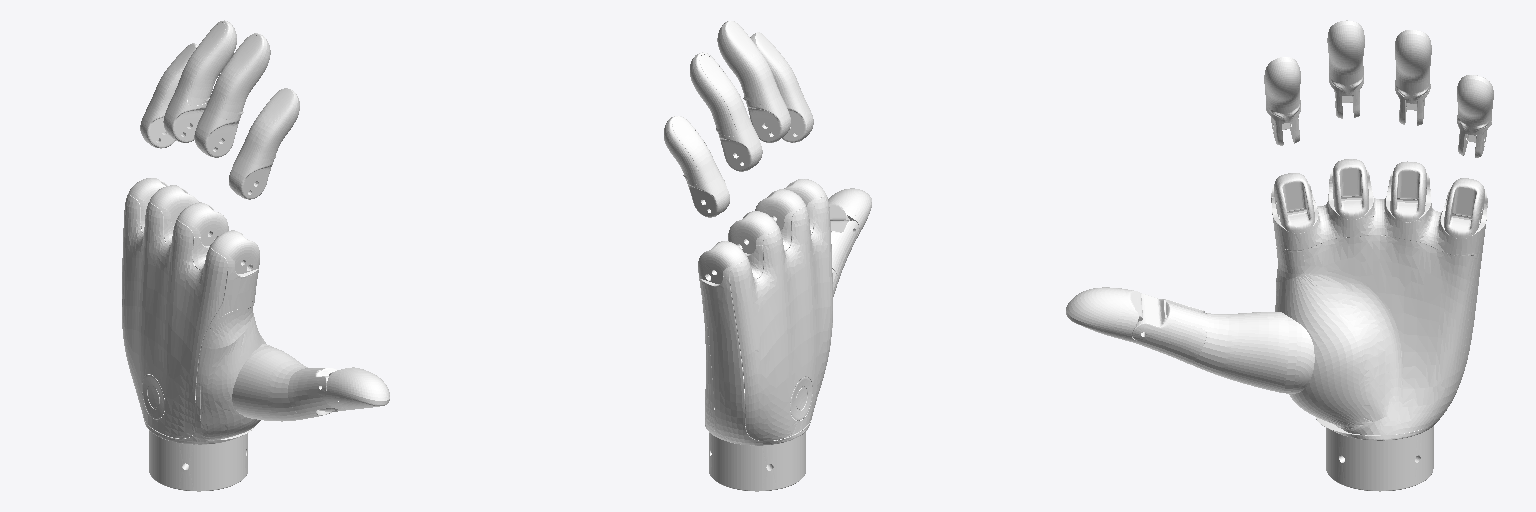
URDF robot description (brainco_revo2_lefthand_urdf):
<?xml version='1.0' encoding='utf-8'?>
<robot name="brainco_revo2_lefthand_urdf">
  <link name="left_base_link">
    <inertial>
      <origin xyz="-0.00526250771717109 0.00339255905687133 0.0521379173026012" rpy="0 0 0" />
      <mass value="0.238" />
      <inertia ixx="2.10902217235295E-05" ixy="-3.91382468722039E-08" ixz="9.20954665152033E-08" iyy="1.44592446991944E-05" iyz="1.10000625250951E-06" izz="7.99782051792634E-06" />
    </inertial>
    <visual>
      <origin xyz="0 0 0" rpy="0 0 0" />
      <geometry>
        <mesh filename="package://revo2_description/meshes/revo2_left_hand/left_base_link.STL" />
      </geometry>
      <material name="">
        <color rgba="1 1 1 1" />
      </material>
    </visual>
 <visual>
      <origin xyz="0 0 0" rpy="0 0 0" />
      <geometry>
        <mesh filename="package://revo2_description/meshes/revo2_left_hand/left_base_visual_link.STL" />
      </geometry>
      <material name="">
        <color rgba="1 1 1 1" />
      </material>
    </visual>
    <collision>
      <origin xyz="0 0 0" rpy="0 0 0" />
      <geometry>
        <mesh filename="package://revo2_description/meshes/revo2_left_hand/left_base_link.STL" />
      </geometry>
    </collision>
  </link>
  <link name="left_thumb_metacarpal_link">
    <inertial>
      <origin xyz="1.52303696287076E-05 -0.00707240283482268 -0.00420839832903629" rpy="0 0 0" />
      <mass value="0.01" />
      <inertia ixx="1.59238866130872E-07" ixy="4.69114607598503E-09" ixz="4.93233725002151E-10" iyy="1.60911967461756E-07" iyz="1.48144948560702E-08" izz="5.13544258620214E-08" />
    </inertial>
    <visual>
      <origin xyz="0 0 0" rpy="0 0 0" />
      <geometry>
        <mesh filename="package://revo2_description/meshes/revo2_left_hand/left_thumb_metacarpal_link.STL" />
      </geometry>
      <material name="">
        <color rgba="1 1 1 1" />
      </material>
    </visual>
    <collision>
      <origin xyz="0 0 0" rpy="0 0 0" />
      <geometry>
        <mesh filename="package://revo2_description/meshes/revo2_left_hand/left_thumb_metacarpal_link.STL" />
      </geometry>
    </collision>
  </link>
  <joint name="left_thumb_metacarpal_joint" type="revolute">
    <!-- 零位重定义：新 q=0 对应旧坐标 +3deg（Stark2.0 URDF 2026-08-14） -->
    <origin xyz="0.0045 -0.019 0.027825" rpy="0 0 0.22023" />
    <parent link="left_base_link" />
    <child link="left_thumb_metacarpal_link" />
    <axis xyz="0 0 1" />
    <limit lower="0" upper="1.55334" effort="0.5" velocity="2.6175" />
  </joint>
  <link name="left_thumb_proximal_link">
    <inertial>
      <origin xyz="-3.69149416382109E-07 -0.0277015790929176 -0.00202668257181579" rpy="0 0 0" />
      <mass value="0.05" />
      <inertia ixx="2.40450829263392E-06" ixy="1.70278763843824E-10" ixz="1.21632944893438E-11" iyy="5.12299191364743E-07" iyz="2.89023502749285E-08" izz="2.56255682995404E-06" />
    </inertial>
 <visual>
      <origin xyz="0 0 0" rpy="0 0 0" />
      <geometry>
        <mesh filename="package://revo2_description/meshes/revo2_left_hand/left_thumb_proximal_visual_link.STL" />
      </geometry>
      <material name="">
        <color rgba="1 1 1 1" />
      </material>
    </visual>
    <collision>
      <origin xyz="0 0 0" rpy="0 0 0" />
      <geometry>
        <mesh filename="package://revo2_description/meshes/revo2_left_hand/left_thumb_proximal_link.STL" />
      </geometry>
    </collision>
  </link>
  <joint name="left_thumb_proximal_joint" type="revolute">
    <!-- 原点补偿：绕旋转轴 +9deg -->
    <origin xyz="0 -0.014227 0" rpy="-0.33153 0.23736 -0.16787" />
    <parent link="left_thumb_metacarpal_link" />
    <child link="left_thumb_proximal_link" />
    <axis xyz="-1 0 0" />
    <limit lower="0" upper="1.04720" effort="1.1" velocity="2.5303" />
  </joint>
  <link name="left_thumb_distal_link">
    <inertial>
      <origin xyz="1.65618684180163E-07 -0.0117550891981016 1.1366609064185E-05" rpy="0 0 0" />
      <mass value="0.01" />
      <inertia ixx="1.6780928553031E-07" ixy="1.91856562375217E-11" ixz="2.69475202672276E-12" iyy="1.15357239984326E-07" iyz="-1.25182560702847E-08" izz="2.1956615213811E-07" />
    </inertial>
    <visual>
      <origin xyz="0 0 0" rpy="0 0 0" />
      <geometry>
        <mesh filename="package://revo2_description/meshes/revo2_left_hand/left_thumb_distal_link.STL" />
      </geometry>
      <material name="">
        <color rgba="1 1 1 1" />
      </material>
    </visual>
    <collision>
      <origin xyz="0 0 0" rpy="0 0 0" />
      <geometry>
        <mesh filename="package://revo2_description/meshes/revo2_left_hand/left_thumb_distal_link.STL" />
      </geometry>
    </collision>
  </link>
  <joint name="left_thumb_distal_joint" type="revolute">
    <!-- 原点补偿：绕旋转轴 +6deg -->
    <origin xyz="0 -0.052 0" rpy="0.10472 0 0" />
    <parent link="left_thumb_proximal_link" />
    <child link="left_thumb_distal_link" />
    <axis xyz="-1 0 0" />
    <limit lower="0" upper="1.15192" effort="1.1" velocity="2.5303" />
    <mimic joint="left_thumb_proximal_joint" multiplier="1.0945" offset="0" />
  </joint>
  <link name="left_thumb_tip_link">
    </link>
  <joint name="left_thumb_tip_joint" type="fixed">
    <origin xyz="0 -0.026529 -0.0017734" rpy="0.06675 0 0" />
    <parent link="left_thumb_distal_link" />
    <child link="left_thumb_tip_link" />
    <axis xyz="0 0 0" />
    </joint>
  <link name="left_thumb_touch_link">
    <inertial>
      <origin xyz="1.3569875392111E-07 0.000717207158422314 -0.00790252458933401" rpy="0 0 0" />
      <mass value="0.002" />
      <inertia ixx="1.67809287404785E-07" ixy="1.93619566820214E-11" ixz="-6.84472317111877E-13" iyy="1.14222234138764E-07" iyz="6.09432087624352E-09" izz="2.20701159969439E-07" />
    </inertial>
    <visual>
      <origin xyz="0 0 0" rpy="0 0 0" />
      <geometry>
        <mesh filename="package://revo2_description/meshes/revo2_left_hand/left_thumb_touch_link.STL" />
      </geometry>
      <material name="">
        <color rgba="1 1 1 1" />
      </material>
    </visual>
    <collision>
      <origin xyz="0 0 0" rpy="0 0 0" />
      <geometry>
        <mesh filename="package://revo2_description/meshes/revo2_left_hand/left_thumb_touch_link.STL" />
      </geometry>
    </collision>
  </link>
  <joint name="left_thumb_touch_joint" type="fixed">
    <origin xyz="0 -0.013836 0.0076686" rpy="0.17488 0 0" />
    <parent link="left_thumb_distal_link" />
    <child link="left_thumb_touch_link" />
    <axis xyz="0 0 0" />
  </joint>
  <link name="left_index_proximal_link">
    <inertial>
      <origin xyz="-0.002235387426012 -3.80544615179342E-06 0.0176439423080373" rpy="0 0 0" />
      <mass value="0.009" />
      <inertia ixx="2.51863526940901E-07" ixy="-3.10934654014342E-11" ixz="-6.36901300651623E-09" iyy="2.36343210839019E-07" iyz="-1.71663811116803E-10" izz="9.30397543724724E-08" />
    </inertial>
    <visual>
      <origin xyz="0 0 0" rpy="0 0 0" />
      <geometry>
        <mesh filename="package://revo2_description/meshes/revo2_left_hand/left_index_proximal_link.STL" />
      </geometry>
      <material name="">
        <color rgba="1 1 1 1" />
      </material>
    </visual>
    <collision>
      <origin xyz="0 0 0" rpy="0 0 0" />
      <geometry>
        <mesh filename="package://revo2_description/meshes/revo2_left_hand/left_index_proximal_link.STL" />
      </geometry>
    </collision>
  </link>
  <joint name="left_index_proximal_joint" type="revolute">
    <origin xyz="-0.0021349 -0.029578 0.080876" rpy="0.11819 0.14743 0.17422" />
    <parent link="left_base_link" />
    <child link="left_index_proximal_link" />
    <axis xyz="0 1 0" />
    <limit lower="0" upper="1.41" effort="2" velocity="2.2685" />
  </joint>
  <link name="left_index_distal_link">
    <inertial>
      <origin xyz="0.00330165933067644 6.31887000952791E-08 0.0142075801783598" rpy="0 0 0" />
      <mass value="0.009" />
      <inertia ixx="3.39958467120803E-07" ixy="-2.00727556234471E-14" ixz="-8.7500943582372E-08" iyy="3.62235423626446E-07" iyz="2.21291910181288E-12" izz="9.10339055645575E-08" />
    </inertial>
    <visual>
      <origin xyz="0 0 0" rpy="0 0 0" />
      <geometry>
        <mesh filename="package://revo2_description/meshes/revo2_left_hand/left_index_distal_link.STL" />
      </geometry>
      <material name="">
        <color rgba="1 1 1 1" />
      </material>
    </visual>
    <collision>
      <origin xyz="0 0 0" rpy="0 0 0" />
      <geometry>
        <mesh filename="package://revo2_description/meshes/revo2_left_hand/left_index_distal_link.STL" />
      </geometry>
    </collision>
  </link>
  <joint name="left_index_distal_joint" type="revolute">
    <origin xyz="0 0 0.032" rpy="0 0 0" />
    <parent link="left_index_proximal_link" />
    <child link="left_index_distal_link" />
    <axis xyz="0 1 0" />
    <limit lower="0" upper="1.69297" effort="2" velocity="2.2685" />
    <mimic joint="left_index_proximal_joint" multiplier="1.131" offset="0" />
  </joint>
  <link name="left_index_tip_link">
    </link>
  <joint name="left_index_tip_joint" type="fixed">
    <origin xyz="0.011097 0 0.035739" rpy="0 0.48723 0" />
    <parent link="left_index_distal_link" />
    <child link="left_index_tip_link" />
    <axis xyz="0 0 0" />
    </joint>
  <link name="left_index_touch_link">
    <inertial>
      <origin xyz="-0.00299918181799204 7.01974568750874E-09 0.00252369841562855" rpy="0 0 0" />
      <mass value="0.002" />
      <inertia ixx="6.77729843516625E-09" ixy="1.88703692893536E-14" ixz="1.51511606529797E-09" iyy="5.41485427527447E-09" iyz="7.54610125535653E-13" izz="3.19157470008512E-09" />
    </inertial>
    <visual>
      <origin xyz="0 0 0" rpy="0 0 0" />
      <geometry>
        <mesh filename="package://revo2_description/meshes/revo2_left_hand/left_index_touch_link.STL" />
      </geometry>
      <material name="">
        <color rgba="1 1 1 1" />
      </material>
    </visual>
    <collision>
      <origin xyz="0 0 0" rpy="0 0 0" />
      <geometry>
        <mesh filename="package://revo2_description/meshes/revo2_left_hand/left_index_touch_link.STL" />
      </geometry>
    </collision>
  </link>
  <joint name="left_index_touch_joint" type="fixed">
    <origin xyz="0.014497 0 0.023303" rpy="0 0.4756 0" />
    <parent link="left_index_distal_link" />
    <child link="left_index_touch_link" />
    <axis xyz="0 0 0" />
  </joint>
  <link name="left_middle_proximal_link">
    <inertial>
      <origin xyz="-0.00222419445309931 -3.61990820813788E-06 0.0203049526045434" rpy="0 0 0" />
      <mass value="0.009" />
      <inertia ixx="3.66885320718611E-07" ixy="-3.6430334370348E-11" ixz="-9.77995332041373E-09" iyy="3.5252138716754E-07" iyz="-2.58098211906242E-10" izz="1.12242284171831E-07" />
    </inertial>
    <visual>
      <origin xyz="0 0 0" rpy="0 0 0" />
      <geometry>
        <mesh filename="package://revo2_description/meshes/revo2_left_hand/left_middle_proximal_link.STL" />
      </geometry>
      <material name="">
        <color rgba="1 1 1 1" />
      </material>
    </visual>
    <collision>
      <origin xyz="0 0 0" rpy="0 0 0" />
      <geometry>
        <mesh filename="package://revo2_description/meshes/revo2_left_hand/left_middle_proximal_link.STL" />
      </geometry>
    </collision>
  </link>
  <joint name="left_middle_proximal_joint" type="revolute">
    <origin xyz="-0.0045935 -0.010061 0.084993" rpy="0.039468 0.1483 0.057975" />
    <parent link="left_base_link" />
    <child link="left_middle_proximal_link" />
    <axis xyz="0 1 0" />
    <limit lower="0" upper="1.41" effort="2" velocity="2.2685" />
  </joint>
  <link name="left_middle_distal_link">
    <inertial>
      <origin xyz="0.00189418007863382 -2.26465967662765E-08 0.0168711148865022" rpy="0 0 0" />
      <mass value="0.009" />
      <inertia ixx="5.40534108976802E-07" ixy="2.94130244214777E-12" ixz="-8.35162930404456E-08" iyy="5.49812279010797E-07" iyz="7.84699400870312E-13" izz="9.55606707448008E-08" />
    </inertial>
    <visual>
      <origin xyz="0 0 0" rpy="0 0 0" />
      <geometry>
        <mesh filename="package://revo2_description/meshes/revo2_left_hand/left_middle_distal_link.STL" />
      </geometry>
      <material name="">
        <color rgba="1 1 1 1" />
      </material>
    </visual>
    <collision>
      <origin xyz="0 0 0" rpy="0 0 0" />
      <geometry>
        <mesh filename="package://revo2_description/meshes/revo2_left_hand/left_middle_distal_link.STL" />
      </geometry>
    </collision>
  </link>
  <joint name="left_middle_distal_joint" type="revolute">
    <origin xyz="0 0 0.037" rpy="0 0.12654 0" />
    <parent link="left_middle_proximal_link" />
    <child link="left_middle_distal_link" />
    <axis xyz="0 1 0" />
    <limit lower="0" upper="1.69297" effort="2" velocity="2.2685" />
    <mimic joint="left_middle_proximal_joint" multiplier="1.267" offset="0" />
  </joint>
  <link name="left_middle_tip_link">
    </link>
  <joint name="left_middle_tip_joint" type="fixed">
    <origin xyz="0.0073534 0 0.041703" rpy="0 0.34907 0" />
    <parent link="left_middle_distal_link" />
    <child link="left_middle_tip_link" />
    <axis xyz="0 0 0" />
    </joint>
  <link name="left_middle_touch_link">
    <inertial>
      <origin xyz="-0.00319288866167638 -2.94334979245373E-08 0.00297859877777221" rpy="0 0 0" />
      <mass value="0.002" />
      <inertia ixx="1.00486919311226E-08" ixy="-5.43894280644511E-14" ixz="2.25918051958301E-09" iyy="8.23231100847473E-09" iyz="1.97875022250685E-13" izz="4.41272539147384E-09" />
    </inertial>
    <visual>
      <origin xyz="0 0 0" rpy="0 0 0" />
      <geometry>
        <mesh filename="package://revo2_description/meshes/revo2_left_hand/left_middle_touch_link.STL" />
      </geometry>
      <material name="">
        <color rgba="1 1 1 1" />
      </material>
    </visual>
    <collision>
      <origin xyz="0 0 0" rpy="0 0 0" />
      <geometry>
        <mesh filename="package://revo2_description/meshes/revo2_left_hand/left_middle_touch_link.STL" />
      </geometry>
    </collision>
  </link>
  <joint name="left_middle_touch_joint" type="fixed">
    <origin xyz="0.012493 0 0.028393" rpy="0 0.34907 0" />
    <parent link="left_middle_distal_link" />
    <child link="left_middle_touch_link" />
    <axis xyz="0 0 0" />
  </joint>
  <link name="left_ring_proximal_link">
    <inertial>
      <origin xyz="-0.00234461360118865 -5.32058096490429E-06 0.0191785931520923" rpy="0 0 0" />
      <mass value="0.009" />
      <inertia ixx="3.14182210853629E-07" ixy="-3.44825864493725E-11" ixz="-7.78011903077364E-09" iyy="2.97623388067888E-07" iyz="-2.45023710126397E-10" izz="1.02120946203075E-07" />
    </inertial>
    <visual>
      <origin xyz="0 0 0" rpy="0 0 0" />
      <geometry>
        <mesh filename="package://revo2_description/meshes/revo2_left_hand/left_ring_proximal_link.STL" />
      </geometry>
      <material name="">
        <color rgba="1 1 1 1" />
      </material>
    </visual>
    <collision>
      <origin xyz="0 0 0" rpy="0 0 0" />
      <geometry>
        <mesh filename="package://revo2_description/meshes/revo2_left_hand/left_ring_proximal_link.STL" />
      </geometry>
    </collision>
  </link>
  <joint name="left_ring_proximal_joint" type="revolute">
    <origin xyz="-0.0046877 0.010026 0.083982" rpy="-0.039462 0.14721 -0.057932" />
    <parent link="left_base_link" />
    <child link="left_ring_proximal_link" />
    <axis xyz="0 1 0" />
    <limit lower="0" upper="1.41" effort="2" velocity="2.2685" />
  </joint>
  <link name="left_ring_distal_link">
    <inertial>
      <origin xyz="0.00177053636256925 6.44490570182732E-08 0.0163889588075686" rpy="0 0 0" />
      <mass value="0.009" />
      <inertia ixx="4.97910632685663E-07" ixy="-7.13155362656436E-13" ixz="-7.8333106177264E-08" iyy="5.06076323023651E-07" iyz="-3.12724415128725E-12" izz="8.96496585961614E-08" />
    </inertial>
    <visual>
      <origin xyz="0 0 0" rpy="0 0 0" />
      <geometry>
        <mesh filename="package://revo2_description/meshes/revo2_left_hand/left_ring_distal_link.STL" />
      </geometry>
      <material name="">
        <color rgba="1 1 1 1" />
      </material>
    </visual>
    <collision>
      <origin xyz="0 0 0" rpy="0 0 0" />
      <geometry>
        <mesh filename="package://revo2_description/meshes/revo2_left_hand/left_ring_distal_link.STL" />
      </geometry>
    </collision>
  </link>
  <joint name="left_ring_distal_joint" type="revolute">
    <origin xyz="0 0 0.035" rpy="0 0.12654 0" />
    <parent link="left_ring_proximal_link" />
    <child link="left_ring_distal_link" />
    <axis xyz="0 1 0" />
    <limit lower="0" upper="1.69297" effort="2" velocity="2.2685" />
    <mimic joint="left_ring_proximal_joint" multiplier="1.252" offset="0" />
  </joint>
  <link name="left_ring_tip_link">
    </link>
  <joint name="left_ring_tip_joint" type="fixed">
    <origin xyz="0.0071824 0 0.040734" rpy="0 0.34907 0" />
    <parent link="left_ring_distal_link" />
    <child link="left_ring_tip_link" />
    <axis xyz="0 0 0" />
    </joint>
  <link name="left_ring_touch_link">
    <inertial>
      <origin xyz="-0.00302345977584328 -4.05745081005771E-08 0.00304075994548066" rpy="0 0 0" />
      <mass value="0.002" />
      <inertia ixx="8.20180397723655E-09" ixy="-4.46948642471342E-14" ixz="1.83211397314813E-09" iyy="6.6365125312521E-09" iyz="5.98352266349244E-14" izz="3.6192579315874E-09" />
    </inertial>
    <visual>
      <origin xyz="0 0 0" rpy="0 0 0" />
      <geometry>
        <mesh filename="package://revo2_description/meshes/revo2_left_hand/left_ring_touch_link.STL" />
      </geometry>
      <material name="">
        <color rgba="1 1 1 1" />
      </material>
    </visual>
    <collision>
      <origin xyz="0 0 0" rpy="0 0 0" />
      <geometry>
        <mesh filename="package://revo2_description/meshes/revo2_left_hand/left_ring_touch_link.STL" />
      </geometry>
    </collision>
  </link>
  <joint name="left_ring_touch_joint" type="fixed">
    <origin xyz="0.012028 0 0.027796" rpy="0 0.34907 0" />
    <parent link="left_ring_distal_link" />
    <child link="left_ring_touch_link" />
    <axis xyz="0 0 0" />
  </joint>
  <link name="left_pinky_proximal_link">
    <inertial>
      <origin xyz="-0.00213266608574047 -7.02260316783054E-06 0.0160680350593264" rpy="0 0 0" />
      <mass value="0.009" />
      <inertia ixx="1.97554078210582E-07" ixy="-1.34133676966674E-11" ixz="-4.58601823842206E-09" iyy="1.82022483454667E-07" iyz="-1.01838144940486E-10" izz="8.21758160050774E-08" />
    </inertial>
    <visual>
      <origin xyz="0 0 0" rpy="0 0 0" />
      <geometry>
        <mesh filename="package://revo2_description/meshes/revo2_left_hand/left_pinky_proximal_link.STL" />
      </geometry>
      <material name="">
        <color rgba="1 1 1 1" />
      </material>
    </visual>
    <collision>
      <origin xyz="0 0 0" rpy="0 0 0" />
      <geometry>
        <mesh filename="package://revo2_description/meshes/revo2_left_hand/left_pinky_proximal_link.STL" />
      </geometry>
    </collision>
  </link>
  <joint name="left_pinky_proximal_joint" type="revolute">
    <origin xyz="-0.0023733 0.029356 0.078694" rpy="-0.11815 0.14491 -0.17392" />
    <parent link="left_base_link" />
    <child link="left_pinky_proximal_link" />
    <axis xyz="0 1 0" />
    <limit lower="0" upper="1.41" effort="2" velocity="2.2685" />
  </joint>
  <link name="left_pinky_distal_link">
    <inertial>
      <origin xyz="0.00307951040509596 -1.22880919793678E-07 0.0130238921688021" rpy="0 0 0" />
      <mass value="0.009" />
      <inertia ixx="2.70011721564217E-07" ixy="-3.87297641763705E-13" ixz="-6.70652466728246E-08" iyy="2.85232998853131E-07" iyz="2.31120225284722E-12" izz="7.90738051832137E-08" />
    </inertial>
    <visual>
      <origin xyz="0 0 0" rpy="0 0 0" />
      <geometry>
        <mesh filename="package://revo2_description/meshes/revo2_left_hand/left_pinky_distal_link.STL" />
      </geometry>
      <material name="">
        <color rgba="1 1 1 1" />
      </material>
    </visual>
    <collision>
      <origin xyz="0 0 0" rpy="0 0 0" />
      <geometry>
        <mesh filename="package://revo2_description/meshes/revo2_left_hand/left_pinky_distal_link.STL" />
      </geometry>
    </collision>
  </link>
  <joint name="left_pinky_distal_joint" type="revolute">
    <origin xyz="0 0 0.029" rpy="0 0 0" />
    <parent link="left_pinky_proximal_link" />
    <child link="left_pinky_distal_link" />
    <axis xyz="0 1 0" />
    <limit lower="0" upper="1.69297" effort="2" velocity="2.2685" />
    <mimic joint="left_pinky_proximal_joint" multiplier="1.271" offset="0" />
  </joint>
  <link name="left_pinky_tip_link">
    </link>
  <joint name="left_pinky_tip_joint" type="fixed">
    <origin xyz="0.010221 0 0.032918" rpy="0 0.4756 0" />
    <parent link="left_pinky_distal_link" />
    <child link="left_pinky_tip_link" />
    <axis xyz="0 0 0" />
    </joint>
  <link name="left_pinky_touch_link">
    <inertial>
      <origin xyz="-0.00289141700902749 -2.11561558237372E-07 0.00165388079364141" rpy="0 0 0" />
      <mass value="0.002" />
      <inertia ixx="6.9191441933911E-09" ixy="1.05433982553728E-13" ixz="1.42746467369115E-09" iyy="5.34360711670272E-09" iyz="-7.73258724722553E-14" izz="3.28292125954561E-09" />
    </inertial>
    <visual>
      <origin xyz="0 0 0" rpy="0 0 0" />
      <geometry>
        <mesh filename="package://revo2_description/meshes/revo2_left_hand/left_pinky_touch_link.STL" />
      </geometry>
      <material name="">
        <color rgba="1 1 1 1" />
      </material>
    </visual>
    <collision>
      <origin xyz="0 0 0" rpy="0 0 0" />
      <geometry>
        <mesh filename="package://revo2_description/meshes/revo2_left_hand/left_pinky_touch_link.STL" />
      </geometry>
    </collision>
  </link>
  <joint name="left_pinky_touch_joint" type="fixed">
    <origin xyz="0.01401 0 0.021124" rpy="0 0.4756 0" />
    <parent link="left_pinky_distal_link" />
    <child link="left_pinky_touch_link" />
    <axis xyz="0 0 0" />
  </joint>
</robot>

--- What the picture shows (computed from the rendered views, not written in the file) ---
Views: 3 orthographic renders of the robot side by side, from view 1: azimuth 30°, elevation 25°; view 2: azimuth 150°, elevation 25°; view 3: azimuth 270°, elevation 25°.
Model brainco_revo2_lefthand_urdf with 22 links and 21 joints (11 revolute, 10 fixed), rooted at left_base_link, posed every joint at zero.
Links seen in each view (by area): view 1: left_base_link, left_thumb_proximal_link, left_middle_distal_link, left_ring_distal_link, left_index_distal_link, left_pinky_distal_link, left_thumb_touch_link; view 2: left_base_link, left_middle_distal_link, left_ring_distal_link, left_pinky_distal_link, left_index_distal_link, left_thumb_proximal_link, left_thumb_touch_link; view 3: left_base_link, left_thumb_proximal_link, left_thumb_touch_link, left_middle_distal_link, left_ring_distal_link, left_index_distal_link, left_pinky_distal_link, left_middle_touch_link, left_ring_touch_link, left_pinky_touch_link, left_index_touch_link.
Boxes of the visible links, left/top/right/bottom form: left_base_link: left=122, top=178, right=265, bottom=491; left_thumb_proximal_link: left=232, top=344, right=338, bottom=421; left_middle_distal_link: left=194, top=33, right=266, bottom=157; left_ring_distal_link: left=163, top=20, right=232, bottom=142; left_index_distal_link: left=229, top=88, right=297, bottom=199; left_pinky_distal_link: left=140, top=43, right=198, bottom=148; left_thumb_touch_link: left=330, top=367, right=389, bottom=405; left_base_link: left=698, top=179, right=832, bottom=491; left_middle_distal_link: left=722, top=21, right=790, bottom=142; left_ring_distal_link: left=692, top=52, right=762, bottom=171; left_pinky_distal_link: left=665, top=116, right=729, bottom=217; left_index_distal_link: left=752, top=32, right=813, bottom=142; left_thumb_proximal_link: left=831, top=220, right=858, bottom=296; left_thumb_touch_link: left=828, top=188, right=871, bottom=226; left_base_link: left=1271, top=159, right=1487, bottom=491; left_thumb_proximal_link: left=1132, top=293, right=1314, bottom=393; left_thumb_touch_link: left=1066, top=287, right=1134, bottom=337; left_middle_distal_link: left=1327, top=20, right=1364, bottom=118; left_ring_distal_link: left=1395, top=30, right=1431, bottom=125; left_index_distal_link: left=1264, top=57, right=1300, bottom=145; left_pinky_distal_link: left=1457, top=75, right=1493, bottom=157; left_middle_touch_link: left=1329, top=24, right=1363, bottom=67; left_ring_touch_link: left=1396, top=33, right=1429, bottom=75; left_pinky_touch_link: left=1457, top=78, right=1490, bottom=118; left_index_touch_link: left=1268, top=60, right=1300, bottom=100.
Bounding box of the posed robot: 0.0447 × 0.1472 × 0.1795 m (x, y, z).
Meshes: 18 distinct files referenced, 13 mesh visuals loaded (13 binary STL); not drawn: 5 (reference not matched to a file when rendering).
